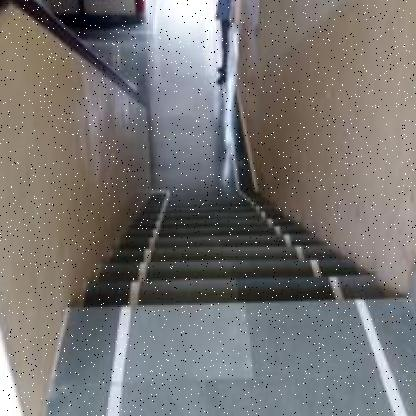stair_down: (58, 219, 385, 339)
